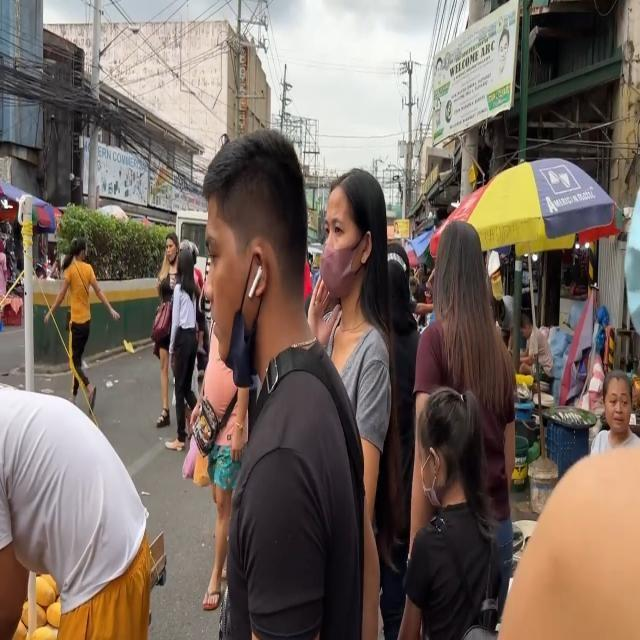hairnet: (202, 217, 274, 391)
